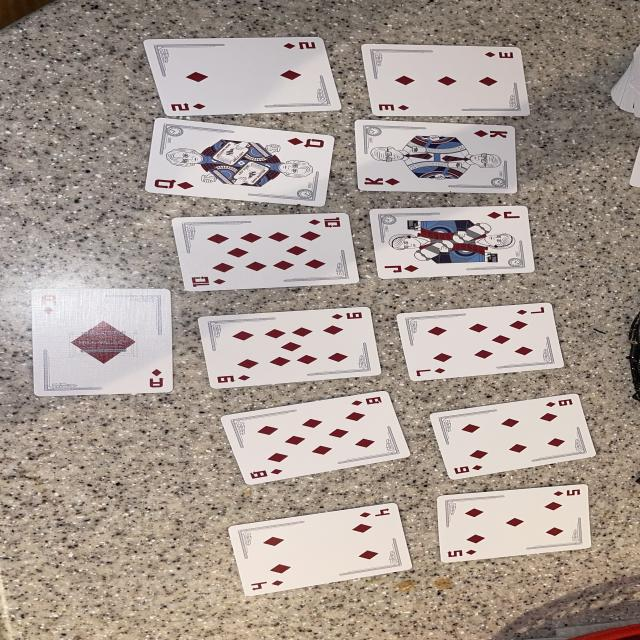10 of diamonds: (171, 212, 360, 291)
2 of diamonds: (144, 38, 340, 116)
3 of diamonds: (362, 44, 529, 116)
4 of diamonds: (229, 504, 411, 596)
5 of diamonds: (438, 484, 591, 562)
6 of diamonds: (431, 394, 596, 479)
7 of diamonds: (396, 302, 564, 381)
8 of diamonds: (222, 391, 409, 485)
9 of diamonds: (198, 308, 380, 389)
Jack of diamonds: (369, 205, 533, 279)
King of diamonds: (356, 120, 518, 194)
Queen of diamonds: (144, 118, 333, 206)
